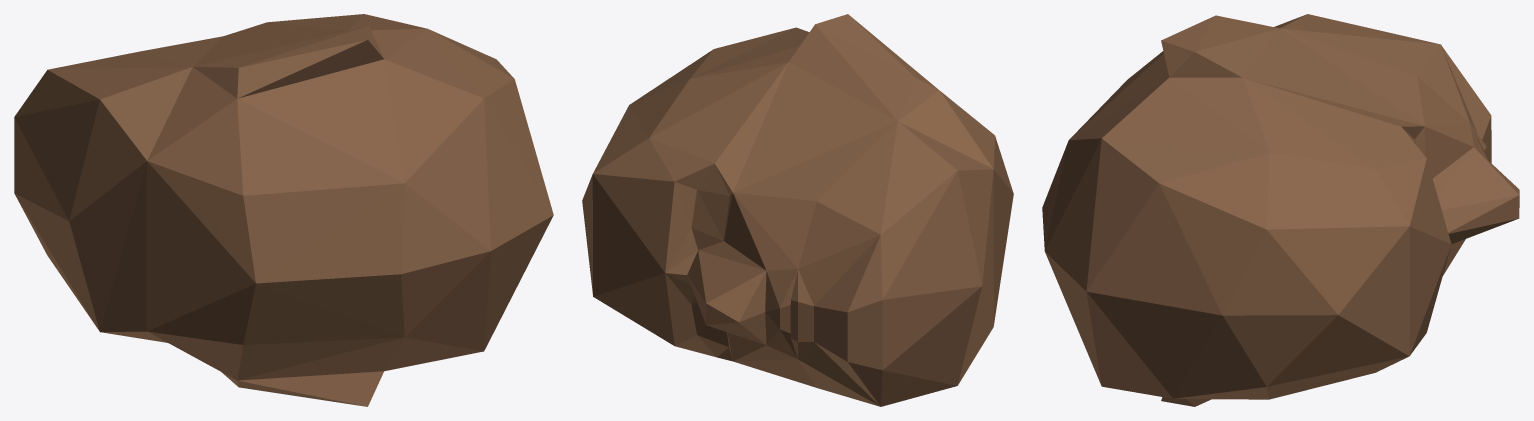
File: HUM_HEAD_PYMONTE.OBJ
The picture shows the model from 3 angles, left to right: view 1: azimuth 30°, elevation 25°; view 2: azimuth 150°, elevation 25°; view 3: azimuth 270°, elevation 25°; orthographic projection. The views are drawn at different scales.
Visible parts, largest first — view 1: HUM_HEAD_PYMONTE; view 2: HUM_HEAD_PYMONTE; view 3: HUM_HEAD_PYMONTE.
Part boxes in pixels (x1,y1,x2,y2): HUM_HEAD_PYMONTE: (14,14,553,406); HUM_HEAD_PYMONTE: (582,14,1013,406); HUM_HEAD_PYMONTE: (1042,14,1519,406).
Bounding box in the file's own units: 0.2311 × 0.1932 × 0.2319.
